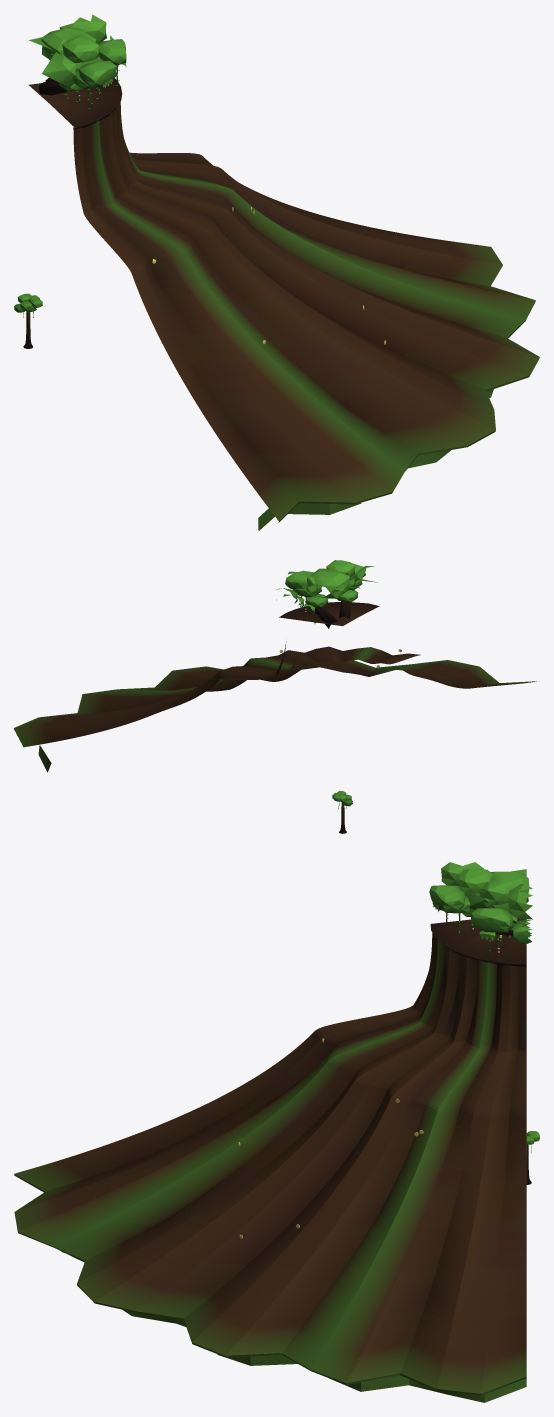
The model's file is swamp-s3-D8JmxBtO.glb.
The picture shows the model from 3 angles, top to bottom: view 1: azimuth 30°, elevation 25°; view 2: azimuth 150°, elevation 25°; view 3: azimuth 270°, elevation 25°; orthographic projection. The views are drawn at different scales.
Visible parts, largest first — view 1: sc_landmark_3, sc_tree_0; view 2: sc_landmark_3, sc_tree_0; view 3: sc_landmark_3.
Part boxes in pixels (x1,y1,x2,y2): sc_landmark_3: (29,14,539,530); sc_tree_0: (14,293,42,348); sc_landmark_3: (14,560,536,772); sc_tree_0: (332,791,352,833); sc_landmark_3: (14,862,532,1402).
Size of the model in its own units: 416 by 289 by 404.
